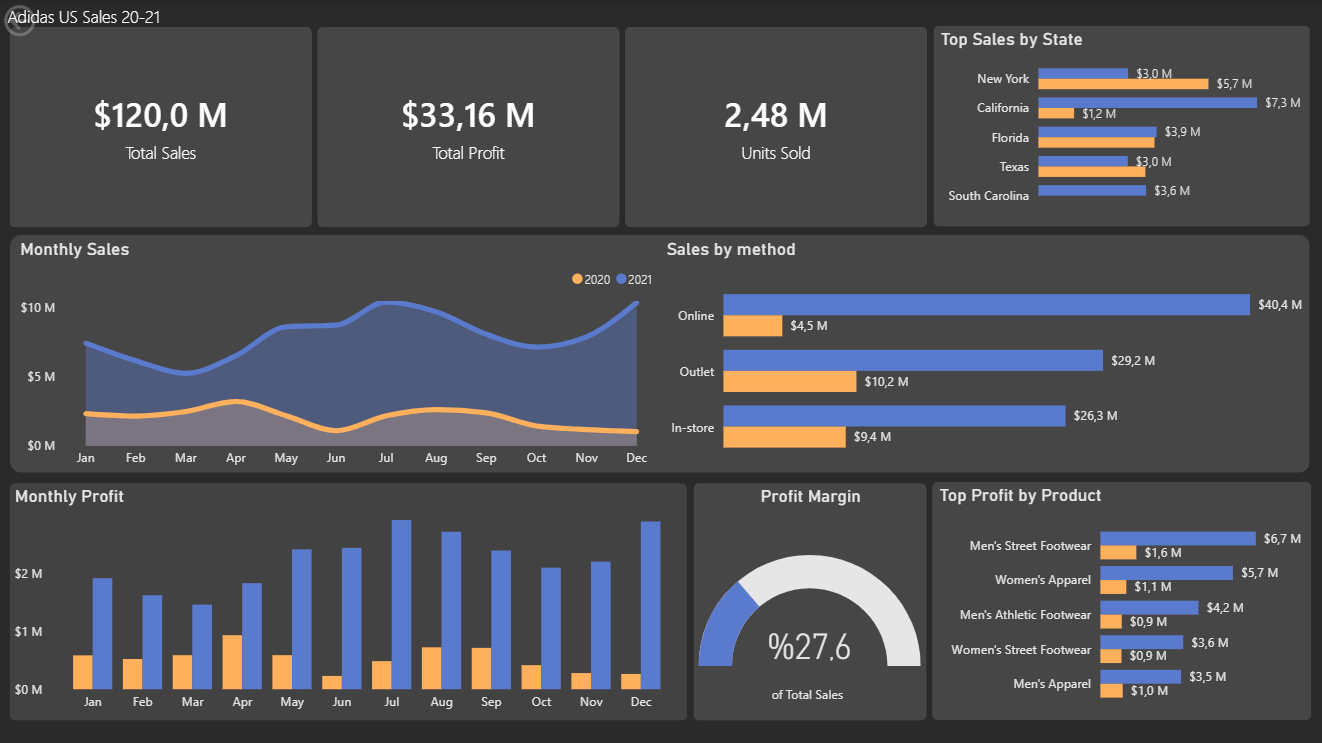

This screenshot's page, from the dashboard's own definition file:
{"tool":"powerbi","page":{"name":"1. sayfa","canvas":[1280,720],"ordinal":0},"visuals":[{"type":"shape","box":[7,223,1261.1,236],"z":0},{"type":"actionButton","box":[0,0,100,40],"z":1000},{"type":"textbox","box":[0,0,162.9,39.8],"z":2000},{"type":"cardVisual","fields":{"Data":["Adidas US Sales.All Total Sales","Adidas US Sales.All Total Profit","Adidas US Sales.All Total Units"]},"box":[0,15.1,908.4,214.1],"z":3000},{"type":"clusteredBarChart","title":"Top Sales by State","fields":{"Category":["Adidas US Sales.state"],"Y":["Adidas US Sales.Top State Sales"],"Series":["Date.Year"]},"box":[901,24.7,365,194.9],"z":4000},{"type":"areaChart","title":"Monthly Sales","fields":{"Y":["Adidas US Sales.All Total Sales"],"Series":["Date.Year"],"Category":["Date.Month_EN"]},"box":[15.1,230,624.4,230],"z":5000},{"type":"clusteredBarChart","title":"Sales by method","fields":{"Category":["Adidas US Sales.sales_method"],"Y":["Adidas US Sales.All Total Sales"],"Series":["Date.Year"]},"box":[639.5,230,624.4,230.5],"z":6000},{"type":"lineClusteredColumnComboChart","title":"Monthly Profit","fields":{"Y":["Adidas US Sales.All Total Profit"],"Series":["Date.Year"],"Category":["Date.Month_EN"]},"box":[9.6,465.2,655,230.5],"z":7000},{"type":"gauge","fields":{"Y":["Adidas US Sales.Profit Margin"]},"box":[670,465.2,226.4,230.5],"z":8000},{"type":"clusteredBarChart","title":"Top Profit by Product","fields":{"Category":["Adidas US Sales.product"],"Y":["Adidas US Sales.All Total Profit"],"Series":["Date.Year"]},"box":[900,465,367,231],"z":9000},{"type":"textbox","box":[741,654.5,83.7,41.2],"z":10000}]}

Visuals, with their boxes in screenshot pixels (x1, y1, x2, y2), scaled from the page's 1280x720 canvas onto the 1322x743 screenshot:
shape: x1=7, y1=230, x2=1310, y2=474
actionButton: x1=0, y1=0, x2=103, y2=41
textbox: x1=0, y1=0, x2=168, y2=41
cardVisual - Adidas US Sales.All Total Sales x Adidas US Sales.All Total Profit: x1=0, y1=16, x2=938, y2=237
"Top Sales by State" clusteredBarChart: x1=931, y1=25, x2=1308, y2=227
"Monthly Sales" areaChart: x1=16, y1=237, x2=660, y2=475
"Sales by method" clusteredBarChart: x1=660, y1=237, x2=1305, y2=475
"Monthly Profit" lineClusteredColumnComboChart: x1=10, y1=480, x2=686, y2=718
gauge - Adidas US Sales.Profit Margin: x1=692, y1=480, x2=926, y2=718
"Top Profit by Product" clusteredBarChart: x1=930, y1=480, x2=1309, y2=718
textbox: x1=765, y1=675, x2=852, y2=718
